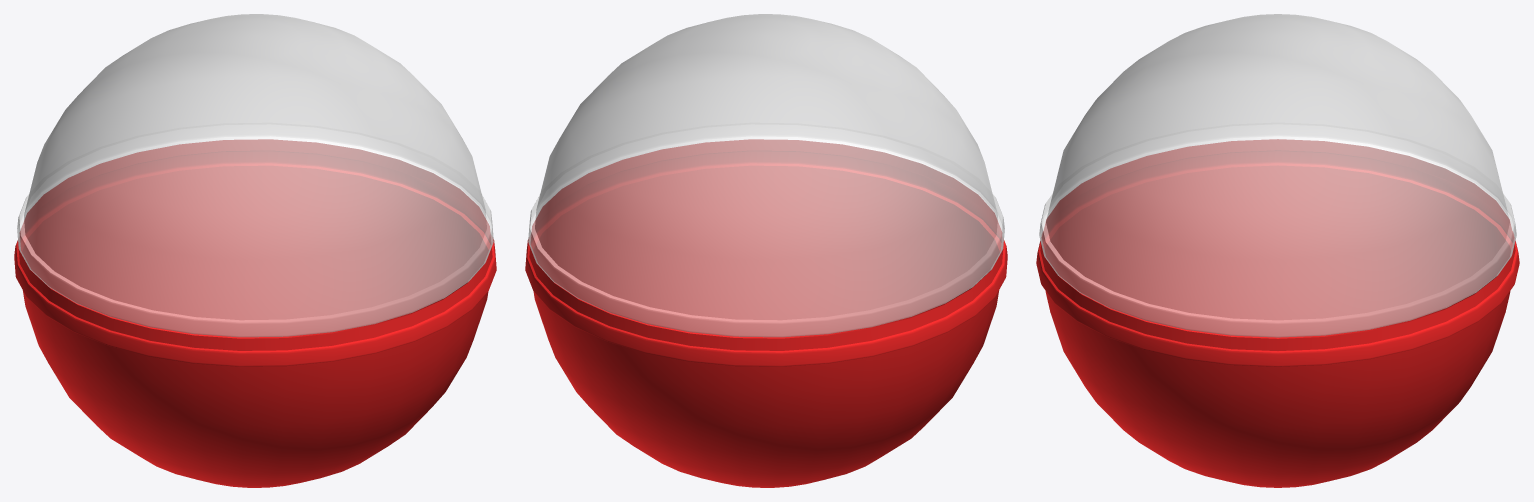
File: pre.glb
The picture shows the model from 3 angles, left to right: view 1: azimuth 30°, elevation 25°; view 2: azimuth 150°, elevation 25°; view 3: azimuth 270°, elevation 25°; orthographic projection.
Parts seen in each view (by area): view 1: bottom, top; view 2: bottom, top; view 3: bottom, top.
Boxes of the visible parts, x1,y1,x2,y2 form: bottom: (14,139,496,487); top: (17,14,493,337); bottom: (525,139,1007,487); top: (528,14,1004,337); bottom: (1036,139,1519,487); top: (1039,14,1516,337).
Bounding box in the file's own units: 102 × 100 × 102.
2 materials, 2 textured.
